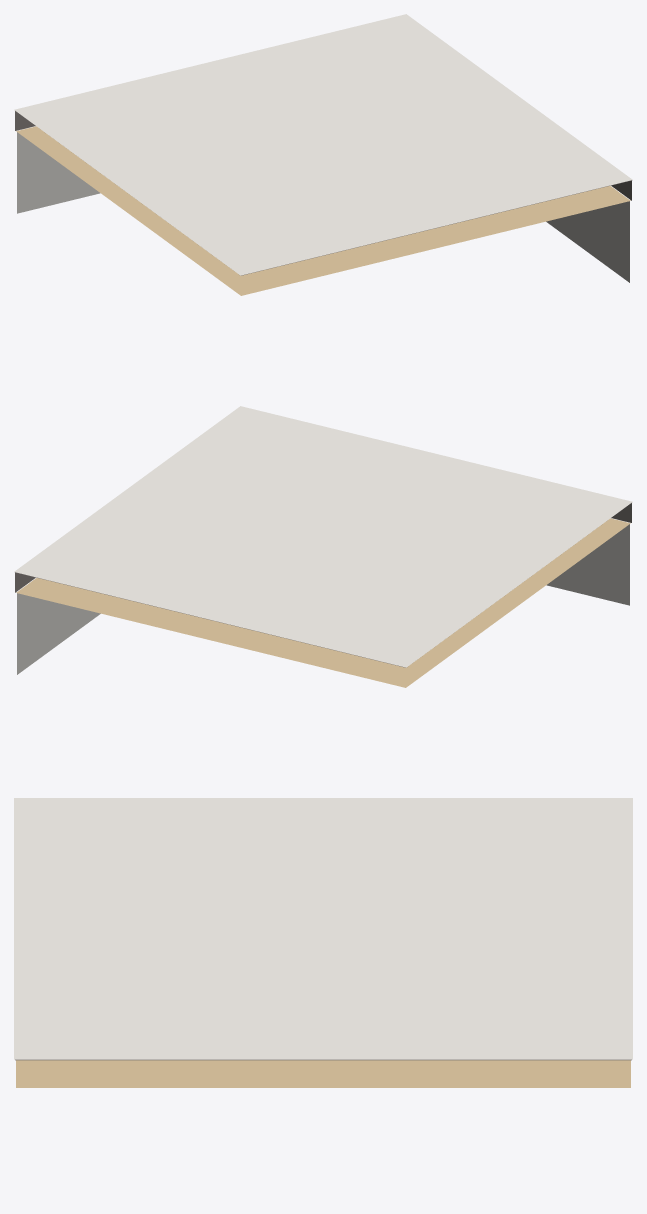
The model's file is terrazzo-epoxy.glb.
3 views of the same model, one above another, from view 1: azimuth 30°, elevation 25°; view 2: azimuth 150°, elevation 25°; view 3: azimuth 270°, elevation 25° (orthographic). The views are drawn at different scales.
Visible parts, largest first — view 1: topcoat, primer, substrate, body; view 2: topcoat, primer, substrate, body; view 3: topcoat, primer, body.
Part boxes in pixels (x1=…): topcoat: x1=14, y1=14, x2=632, y2=275; primer: x1=16, y1=126, x2=630, y2=295; substrate: x1=17, y1=132, x2=629, y2=282; body: x1=15, y1=111, x2=631, y2=275; topcoat: x1=14, y1=406, x2=632, y2=667; primer: x1=16, y1=518, x2=630, y2=687; substrate: x1=17, y1=524, x2=629, y2=674; body: x1=15, y1=503, x2=631, y2=667; topcoat: x1=14, y1=798, x2=632, y2=1059; primer: x1=16, y1=1060, x2=630, y2=1087; body: x1=15, y1=1059, x2=631, y2=1060.
Bounding box in the file's own units: 0.3 × 0.0756 × 0.3.
